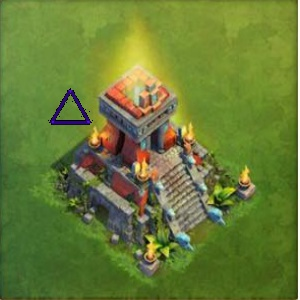triangle: (45, 86, 94, 127)
